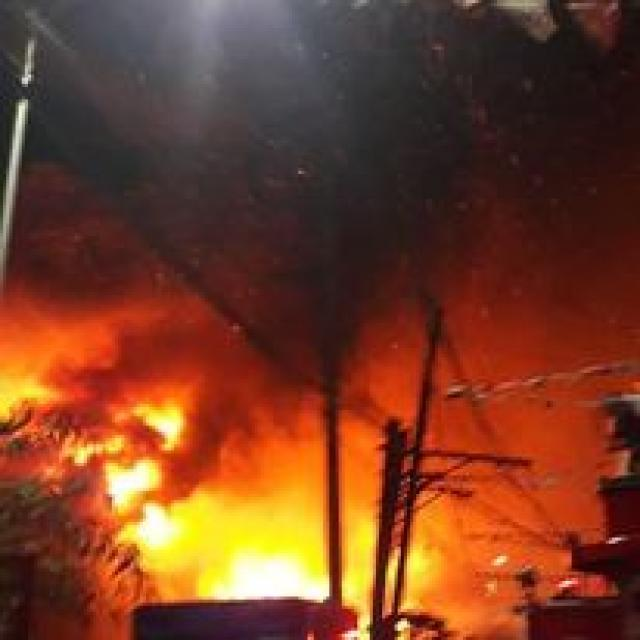Fire: (88, 385, 197, 544), (195, 536, 349, 600), (0, 347, 62, 454)
Smoke: (0, 202, 271, 418), (140, 419, 388, 578)
